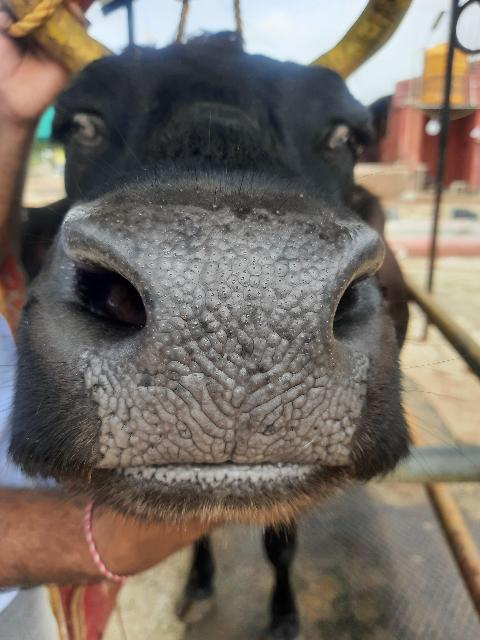Muzzle: (93, 213, 347, 461)
